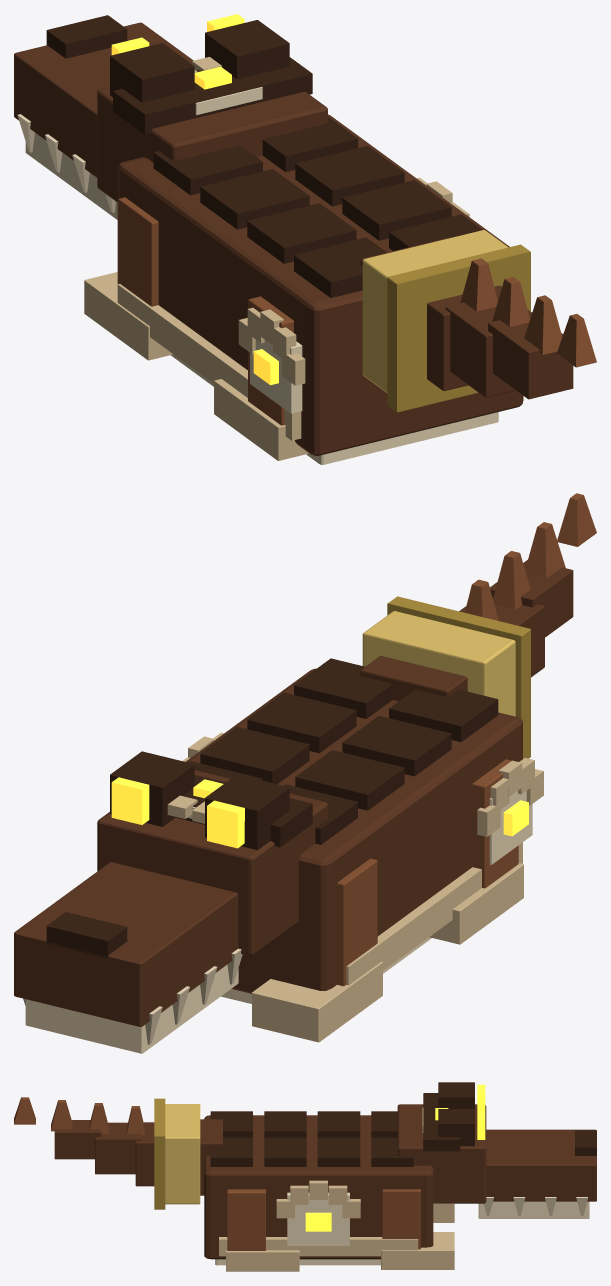
File: cocoa-croc.glb
3 renders of one model, top to bottom at view 1: azimuth 30°, elevation 25°; view 2: azimuth 150°, elevation 25°; view 3: azimuth 270°, elevation 25°, orthographic. The views are drawn at different scales.
Visible parts, largest first — view 1: body, head, tail, leg.FR, leg.BR; view 2: body, head, tail, leg.FR, leg.BR; view 3: body, head, tail, leg.BL, leg.FL, leg.FR.
Boxes of the visible parts, x1,y1,x2,y2 form: body: (117,114,522,464); head: (14,14,327,219); tail: (360,230,596,412); leg.FR: (84,197,173,360); leg.BR: (214,296,309,460); body: (182,658,543,1003); head: (14,751,327,1053); tail: (360,493,596,758); leg.FR: (252,858,382,1042); leg.BR: (429,759,523,944); body: (204,1111,433,1265); head: (397,1082,596,1218); tail: (14,1097,222,1209); leg.BL: (226,1189,299,1271); leg.FL: (381,1189,454,1269); leg.FR: (433,1203,454,1222).
Bounding box in the file's own units: 1.09 × 1 × 3.71.
